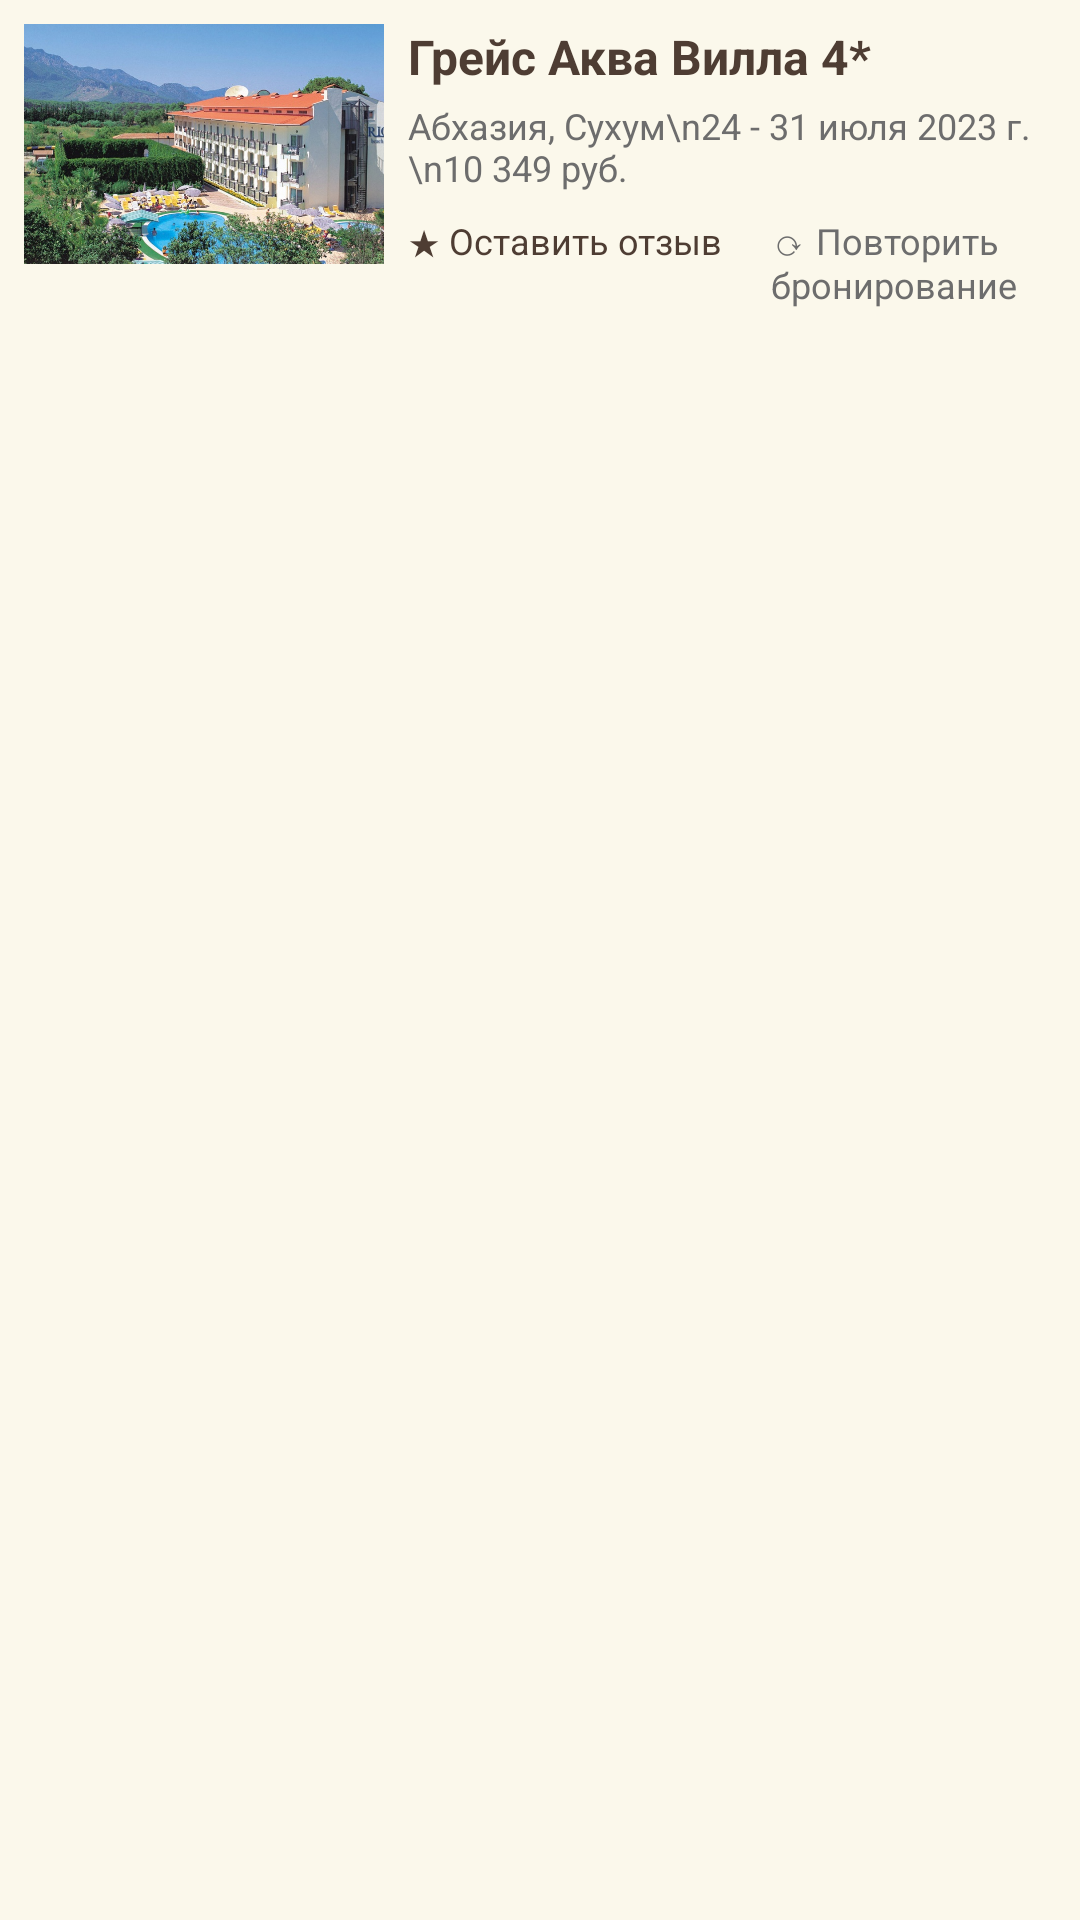

Icon click points for this 1080px x 1920px phone screenshot, format (x=x, y=y):
hotel: (x=204, y=144)
